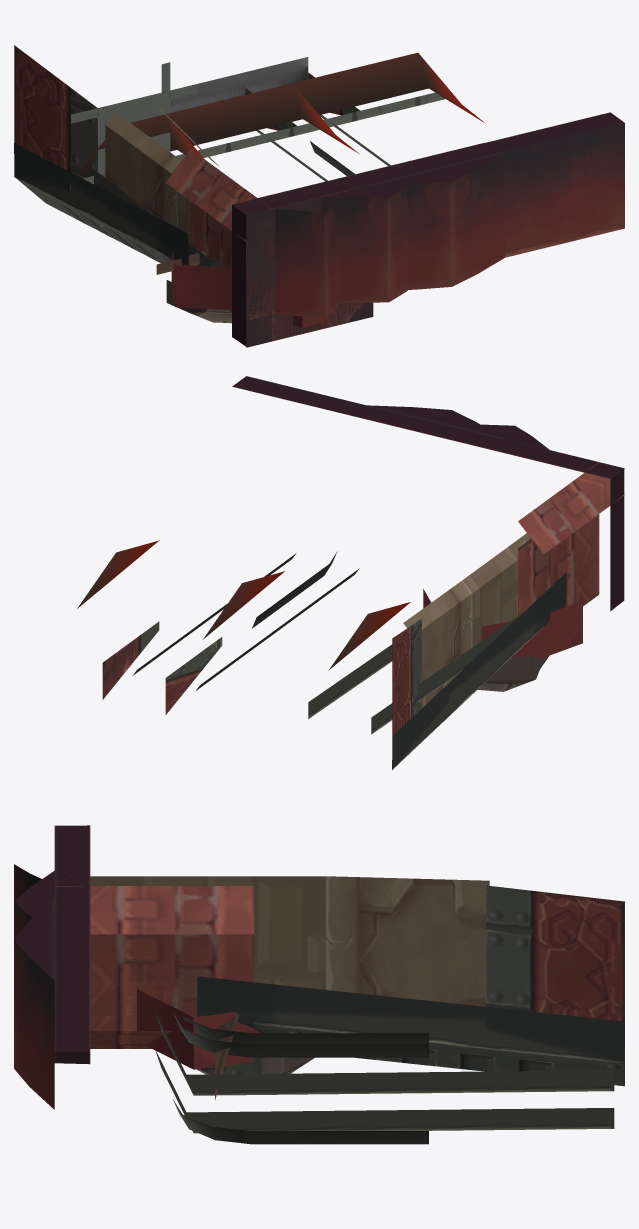
The model's file is wall_set.glb.
3 views of the same model, one above another, from view 1: azimuth 30°, elevation 25°; view 2: azimuth 150°, elevation 25°; view 3: azimuth 270°, elevation 25° (orthographic). The views are drawn at different scales.
Visible parts, largest first — view 1: wall.wall_set-MeshSets[wall_arch_Three_01].Mesh[0], wall.wall_set-MeshSets[wall_pillar_01].Mesh[1], wall.wall_set-MeshSets[wall_arch_Three_alcoves].Mesh[5], wall.wall_set-MeshSets[wall_arch_Two_01].Mesh[0], wall.wall_set-MeshSets[corner_out_NW].Mesh[3], wall.wall_set-MeshSets[corner_in_01].Mesh[0], wall.wall_set-MeshSets[wall_arch_01].Mesh[0], wall.wall_set-MeshSets[wall_arch_Two_alcoves].Mesh[5], wall.wall_set-MeshSets[corner_out_NW].Mesh[1], wall.wall_set-MeshSets[corner_in_NE].Mesh[0], wall.wall_set-MeshSets[corner_in_NW].Mesh[0], wall.wall_set-MeshSets[wall_arch_Three_doorway].Mesh[4] (+10 smaller); view 2: wall.wall_set-MeshSets[wall_pillar_01].Mesh[1], wall.wall_set-MeshSets[corner_out_NW].Mesh[0], wall.wall_set-MeshSets[wall_arch_Three_01].Mesh[0], wall.wall_set-MeshSets[corner_out_NW].Mesh[1], wall.wall_set-MeshSets[corner_in_NW].Mesh[0], wall.wall_set-MeshSets[corner_out_NW].Mesh[2], wall.wall_set-MeshSets[corner_out_NW].Mesh[3], wall.wall_set-MeshSets[wall_arch_Two_01].Mesh[0], wall.wall_set-MeshSets[wall_arch_Two_doorway].Mesh[4], wall.wall_set-MeshSets[wall_arch_Three_doorway].Mesh[4], wall.wall_set-MeshSets[corner_in_01].Mesh[0], wall.wall_set-MeshSets[corner_in_NE].Mesh[0] (+7 smaller); view 3: wall.wall_set-MeshSets[wall_pillar_01].Mesh[1], wall.wall_set-MeshSets[corner_out_01].Mesh[3], wall.wall_set-MeshSets[corner_out_01].Mesh[2], wall.wall_set-MeshSets[wall_arch_Three_01].Mesh[0], wall.wall_set-MeshSets[corner_out_01].Mesh[0], wall.wall_set-MeshSets[wall_arch_Two_doorway].Mesh[4], wall.wall_set-MeshSets[corner_out_NE].Mesh[2], wall.wall_set-MeshSets[wall_arch_Three_doorway].Mesh[4], wall.wall_set-MeshSets[corner_out_01].Mesh[1], wall.wall_set-MeshSets[corner_in_NE].Mesh[0], wall.wall_set-MeshSets[wall_arch_Three_window].Mesh[3], wall.wall_set-MeshSets[wall_arch_Two_01].Mesh[0] (+7 smaller).
Part boxes in pixels (x1,y1,x2,y2): wall.wall_set-MeshSets[wall_arch_Three_01].Mesh[0]: (240, 112, 624, 318); wall.wall_set-MeshSets[wall_pillar_01].Mesh[1]: (14, 143, 329, 327); wall.wall_set-MeshSets[wall_arch_Three_alcoves].Mesh[5]: (77, 52, 485, 174); wall.wall_set-MeshSets[wall_arch_Two_01].Mesh[0]: (246, 143, 491, 316); wall.wall_set-MeshSets[corner_out_NW].Mesh[3]: (14, 45, 197, 178); wall.wall_set-MeshSets[corner_in_01].Mesh[0]: (232, 175, 362, 346); wall.wall_set-MeshSets[wall_arch_01].Mesh[0]: (246, 198, 339, 320); wall.wall_set-MeshSets[wall_arch_Two_alcoves].Mesh[5]: (81, 83, 359, 172); wall.wall_set-MeshSets[corner_out_NW].Mesh[1]: (105, 112, 181, 227); wall.wall_set-MeshSets[corner_in_NE].Mesh[0]: (232, 190, 373, 346); wall.wall_set-MeshSets[corner_in_NW].Mesh[0]: (165, 149, 372, 346); wall.wall_set-MeshSets[wall_arch_Three_doorway].Mesh[4]: (170, 57, 390, 166); wall.wall_set-MeshSets[wall_pillar_01].Mesh[1]: (392, 572, 582, 769); wall.wall_set-MeshSets[corner_out_NW].Mesh[0]: (518, 514, 599, 615); wall.wall_set-MeshSets[wall_arch_Three_01].Mesh[0]: (232, 376, 624, 474); wall.wall_set-MeshSets[corner_out_NW].Mesh[1]: (403, 580, 472, 707); wall.wall_set-MeshSets[corner_in_NW].Mesh[0]: (518, 462, 624, 554); wall.wall_set-MeshSets[corner_out_NW].Mesh[2]: (462, 533, 530, 646); wall.wall_set-MeshSets[corner_out_NW].Mesh[3]: (392, 619, 421, 769); wall.wall_set-MeshSets[wall_arch_Two_01].Mesh[0]: (358, 412, 622, 478); wall.wall_set-MeshSets[wall_arch_Two_doorway].Mesh[4]: (195, 568, 523, 734); wall.wall_set-MeshSets[wall_arch_Three_doorway].Mesh[4]: (132, 553, 392, 718); wall.wall_set-MeshSets[corner_in_01].Mesh[0]: (484, 443, 624, 609); wall.wall_set-MeshSets[corner_in_NE].Mesh[0]: (610, 469, 624, 611); wall.wall_set-MeshSets[wall_pillar_01].Mesh[1]: (137, 976, 624, 1086); wall.wall_set-MeshSets[corner_out_01].Mesh[3]: (486, 885, 624, 1063); wall.wall_set-MeshSets[corner_out_01].Mesh[2]: (325, 876, 489, 985); wall.wall_set-MeshSets[wall_arch_Three_01].Mesh[0]: (14, 825, 90, 1109); wall.wall_set-MeshSets[corner_out_01].Mesh[0]: (90, 934, 254, 1015); wall.wall_set-MeshSets[wall_arch_Two_doorway].Mesh[4]: (155, 1011, 614, 1095); wall.wall_set-MeshSets[corner_out_NE].Mesh[2]: (325, 938, 485, 1006); wall.wall_set-MeshSets[wall_arch_Three_doorway].Mesh[4]: (155, 1016, 614, 1133); wall.wall_set-MeshSets[corner_out_01].Mesh[1]: (69, 876, 325, 972); wall.wall_set-MeshSets[corner_in_NE].Mesh[0]: (55, 886, 254, 934); wall.wall_set-MeshSets[wall_arch_Three_window].Mesh[3]: (173, 1001, 428, 1144); wall.wall_set-MeshSets[wall_arch_Two_01].Mesh[0]: (14, 825, 90, 976).
Size of the model in its own units: 3.25 by 1.31 by 3.43.
Materials: 10 (10 with a texture image).
